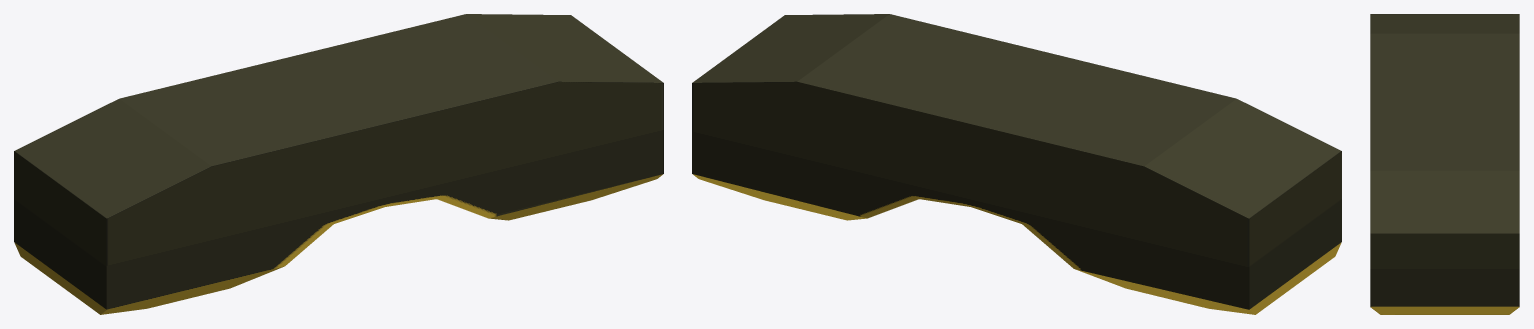
File: Phone 2.fbx
The picture shows the model from 3 angles, left to right: view 1: azimuth 30°, elevation 25°; view 2: azimuth 150°, elevation 25°; view 3: azimuth 270°, elevation 25°; orthographic projection. The views are drawn at different scales.
Parts seen in each view (by area): view 1: Cube.001; view 2: Cube.001; view 3: Cube.001.
Boxes of the visible parts, bbox=[...] form: Cube.001: bbox=[14, 14, 663, 314]; Cube.001: bbox=[692, 14, 1341, 314]; Cube.001: bbox=[1370, 14, 1519, 314].
Size of the model in its own units: 200 by 48.7 by 57.61.
